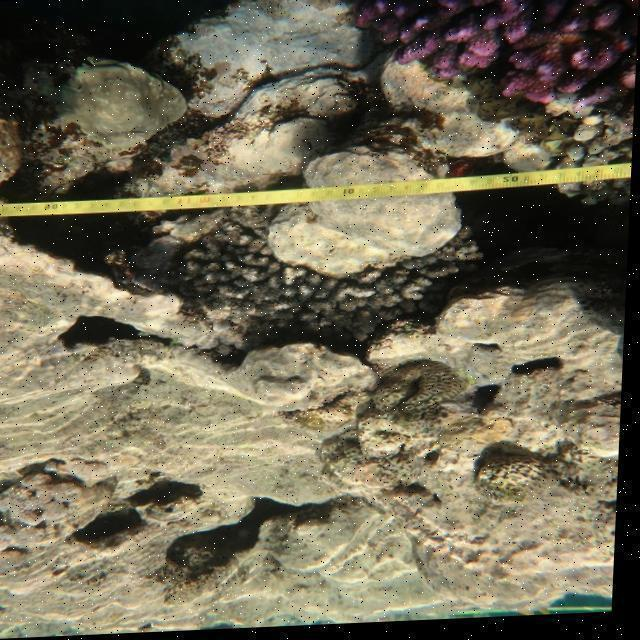Healthy Coral: (343, 0, 640, 114)
